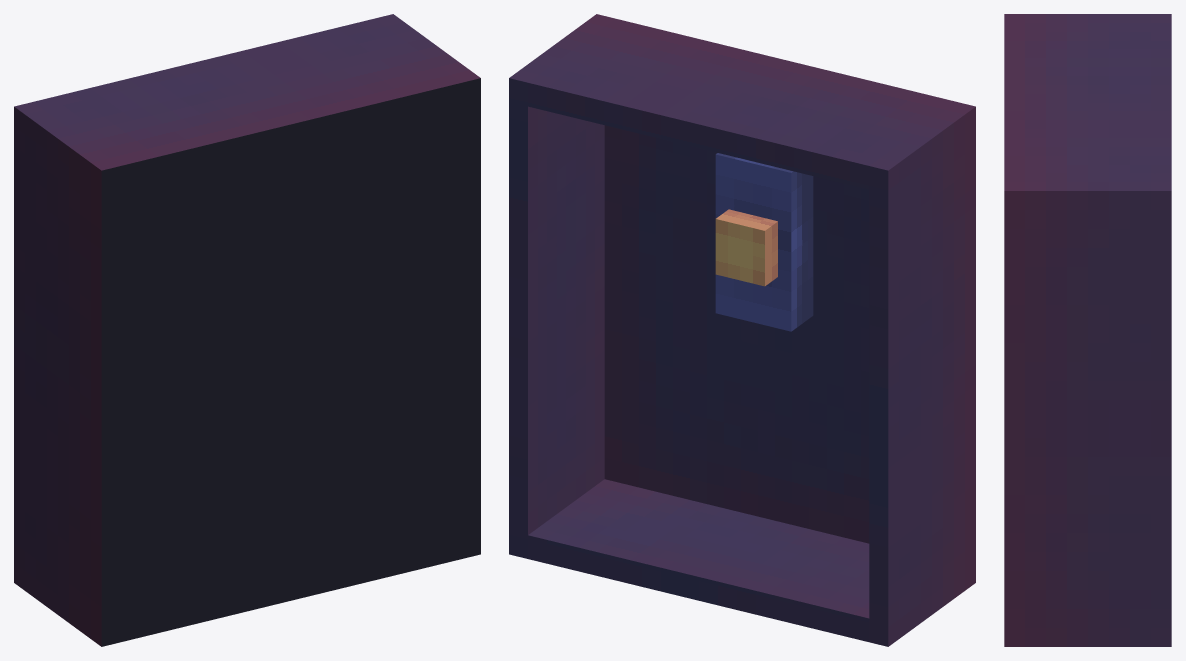
File: power_control_box.gltf
3 renders of one model, left to right at view 1: azimuth 30°, elevation 25°; view 2: azimuth 150°, elevation 25°; view 3: azimuth 270°, elevation 25°, orthographic. The views are drawn at different scales.
Parts seen in each view (by area): view 1: Base; view 2: Base, Button; view 3: Base.
Boxes of the visible parts, <box> form: Base: <box>14,14,480,646</box>; Base: <box>509,14,975,646</box>; Button: <box>715,153,813,331</box>; Base: <box>1004,14,1171,646</box>.
Size of the model in its own units: 0.3125 by 0.375 by 0.125.
Materials: 1 (1 with a texture image).
